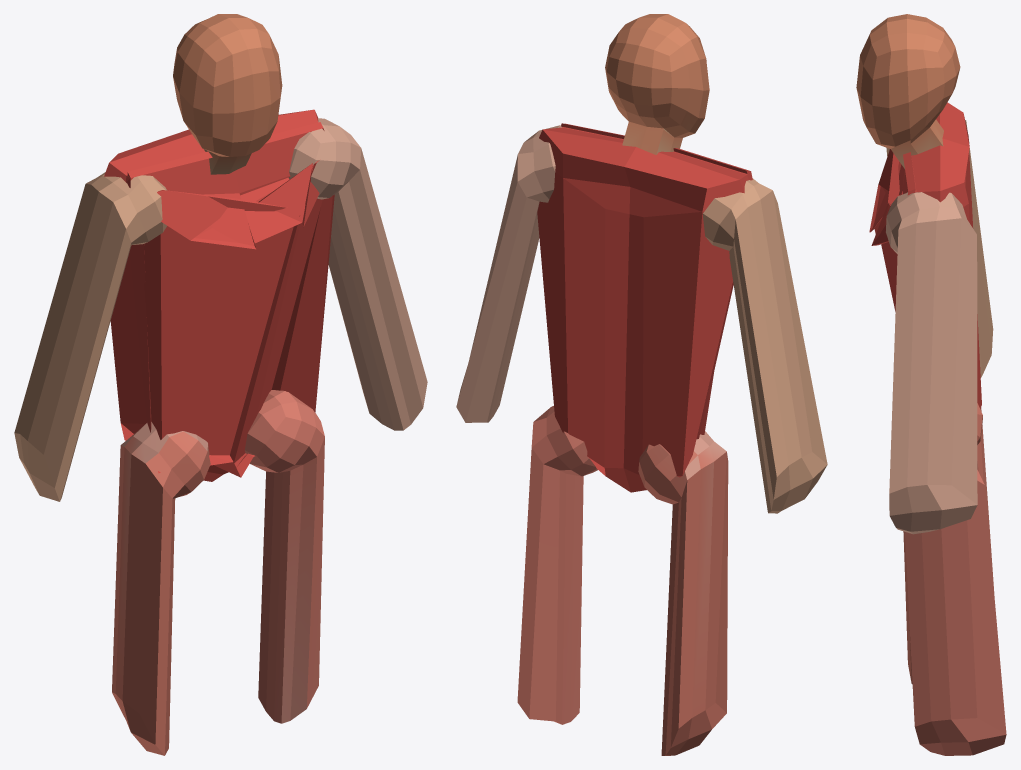
The model's file is man.fbx.
3 renders of one model, left to right at view 1: azimuth 30°, elevation 25°; view 2: azimuth 150°, elevation 25°; view 3: azimuth 270°, elevation 25°, orthographic. The views are drawn at different scales.
Visible parts, largest first — view 1: Cube.001, Cube.003, Cube.002, Cube.004, Cube.005, Cube; view 2: Cube.001, Cube.003, Cube.004, Cube.002, Cube.005, Cube; view 3: Cube.005, Cube.002, Cube, Cube.001, Cube.003, Cube.004.
Part boxes in pixels (bbox=[...]): Cube.001: bbox=[104, 109, 334, 481]; Cube.003: bbox=[14, 172, 167, 501]; Cube.002: bbox=[244, 390, 324, 723]; Cube.004: bbox=[112, 422, 210, 755]; Cube.005: bbox=[288, 118, 427, 430]; Cube: bbox=[173, 14, 282, 174]; Cube.001: bbox=[537, 123, 752, 492]; Cube.003: bbox=[702, 178, 827, 513]; Cube.004: bbox=[638, 431, 728, 755]; Cube.002: bbox=[517, 406, 597, 724]; Cube.005: bbox=[456, 125, 561, 422]; Cube: bbox=[605, 14, 709, 154]; Cube.005: bbox=[886, 192, 977, 534]; Cube.002: bbox=[905, 461, 1006, 755]; Cube: bbox=[856, 14, 960, 168]; Cube.001: bbox=[869, 102, 981, 442]; Cube.003: bbox=[886, 120, 993, 377]; Cube.004: bbox=[903, 403, 994, 684].
Size of the model in its own units: 1719 by 3275 by 630.
